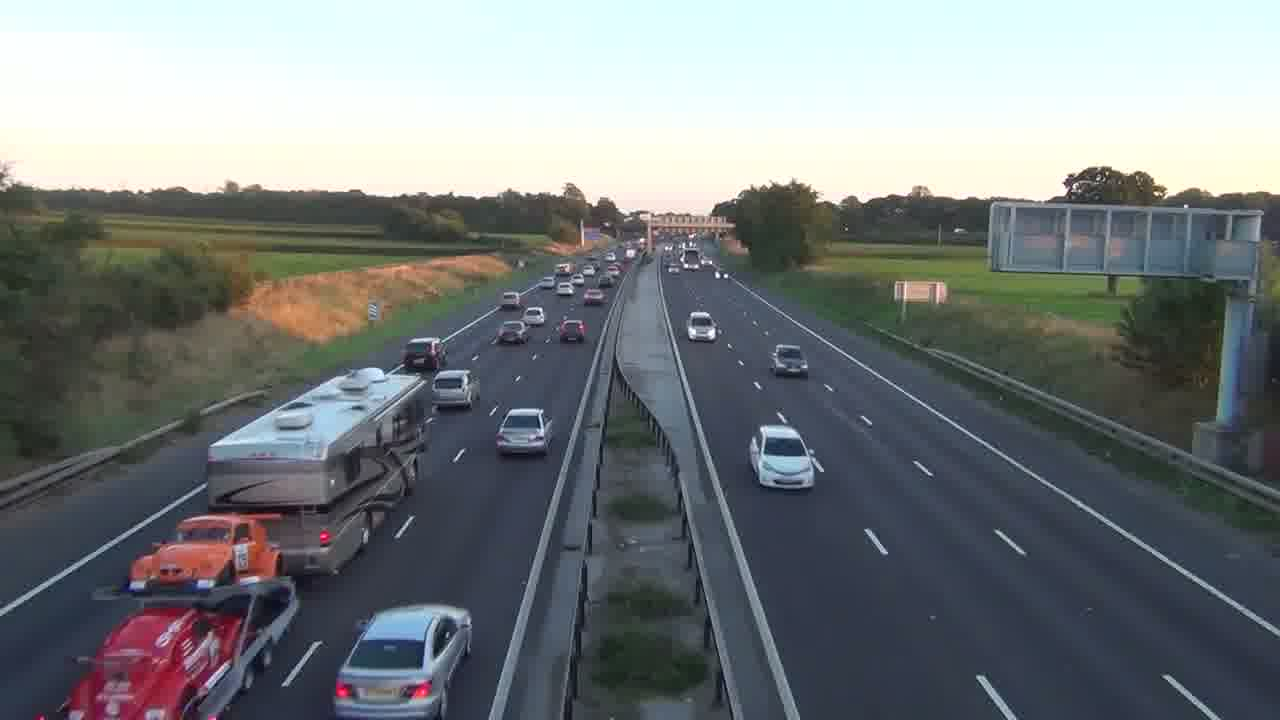car: (333, 603, 474, 719), (748, 424, 824, 490), (496, 407, 555, 456), (432, 369, 477, 409), (770, 344, 809, 378), (686, 311, 718, 342), (495, 321, 528, 345), (559, 318, 587, 343), (523, 305, 545, 327)
truck: (115, 365, 436, 589), (41, 524, 301, 720)
